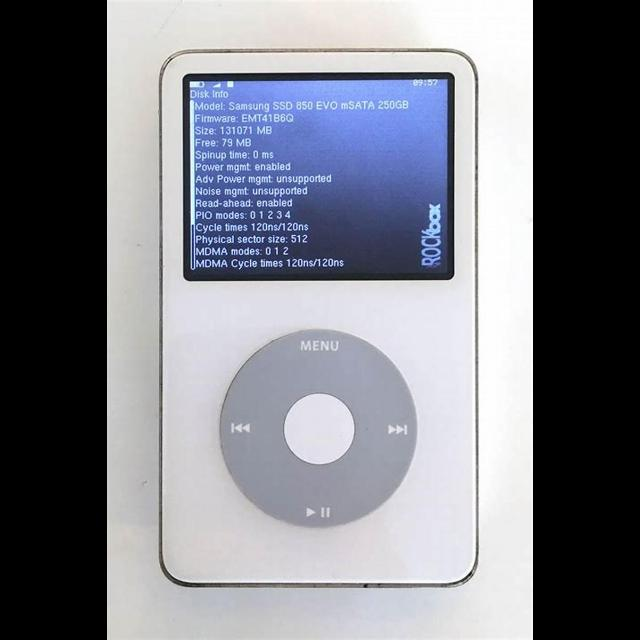Music-Player: (148, 36, 498, 596)
